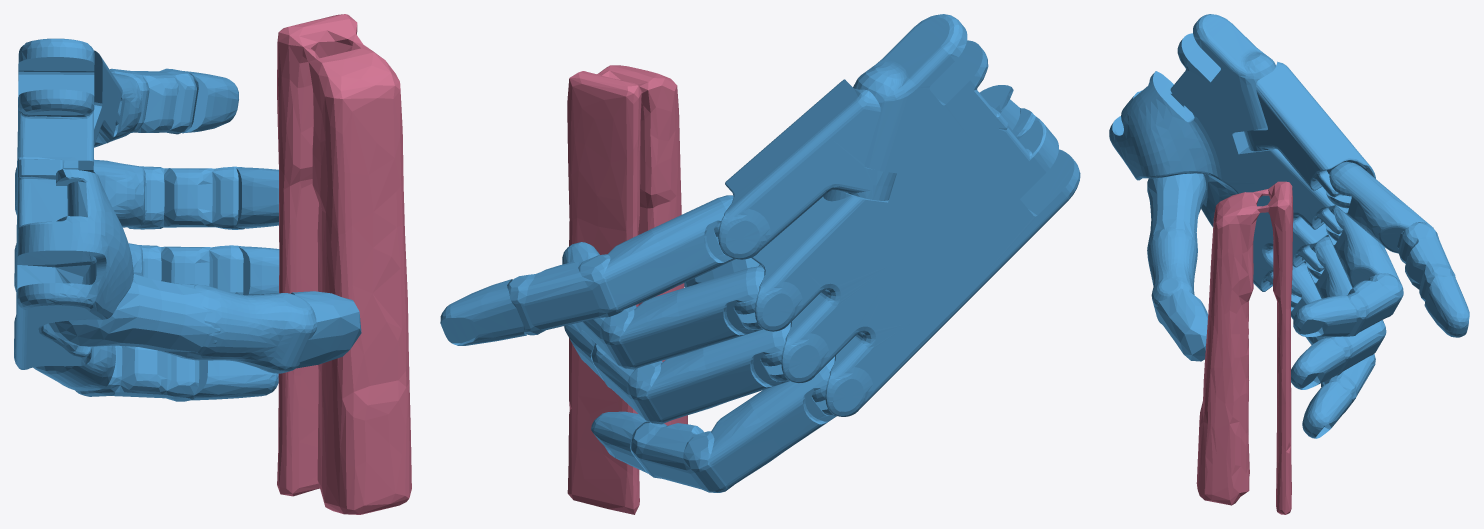
3 views of the same model, side by side, from view 1: azimuth 30°, elevation 25°; view 2: azimuth 150°, elevation 25°; view 3: azimuth 270°, elevation 25° (orthographic). The views are drawn at different scales.
Visible parts, largest first — view 1: 1; view 2: 1; view 3: 1.
Boxes of the visible parts, box(x1,y1,x2,y2) form: 1: box(14, 14, 411, 514); 1: box(440, 14, 1080, 514); 1: box(1109, 14, 1469, 514).
Size of the model in its own units: 0.1519 by 0.1826 by 0.1553.
